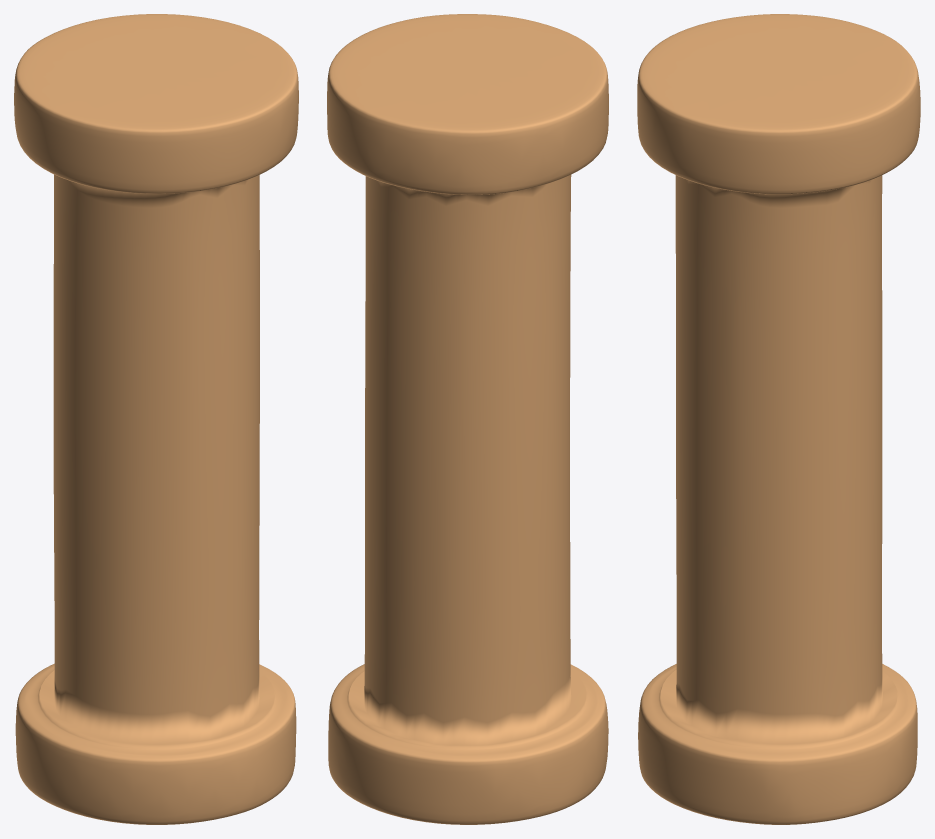
Rendered from simplepillar.fbx.
3 views of the same model, side by side, from view 1: azimuth 30°, elevation 25°; view 2: azimuth 150°, elevation 25°; view 3: azimuth 270°, elevation 25° (orthographic).
Visible parts, largest first — view 1: Cylinder; view 2: Cylinder; view 3: Cylinder.
Part boxes in pixels (box(x1,y1,x2,y2)): Cylinder: box(14, 14, 298, 824); Cylinder: box(327, 14, 608, 824); Cylinder: box(637, 14, 920, 824).
Bounding box in the file's own units: 226 × 616 × 227.
